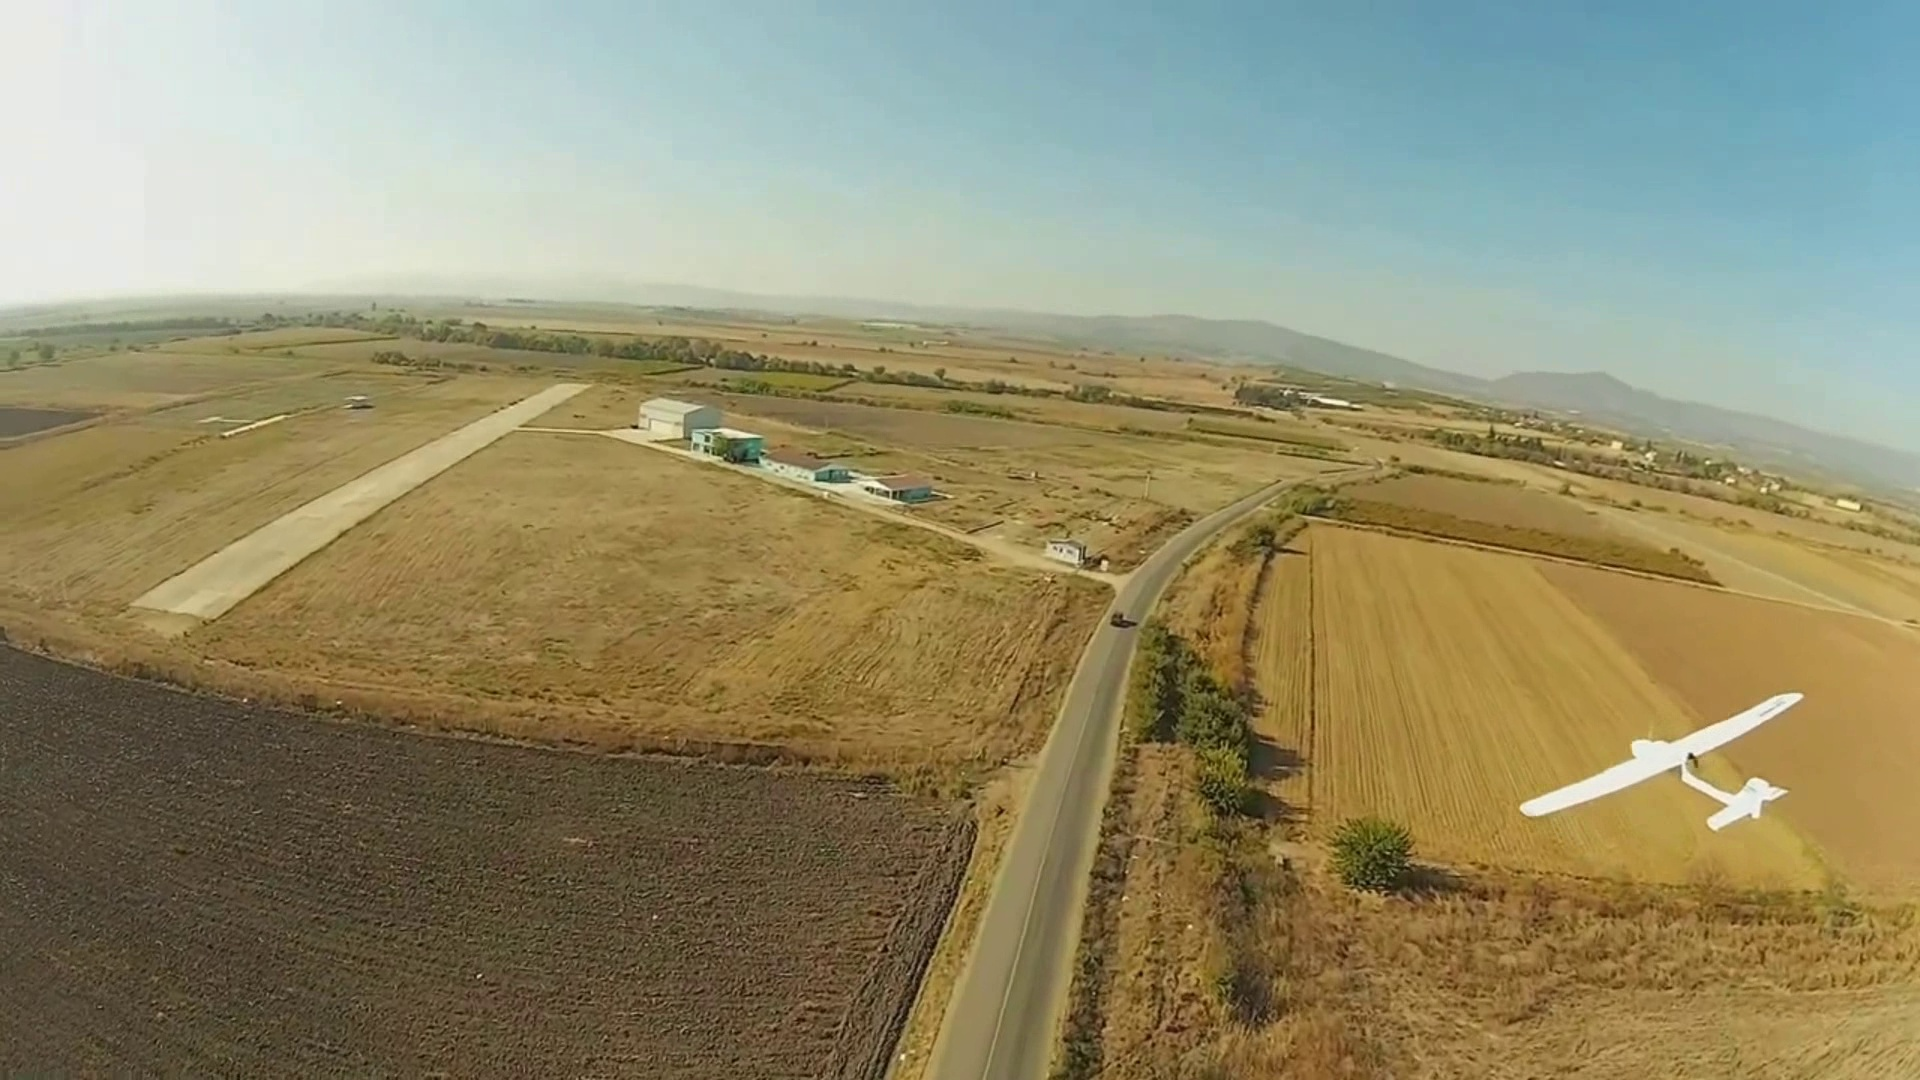airplane: (1518, 690, 1803, 833)
